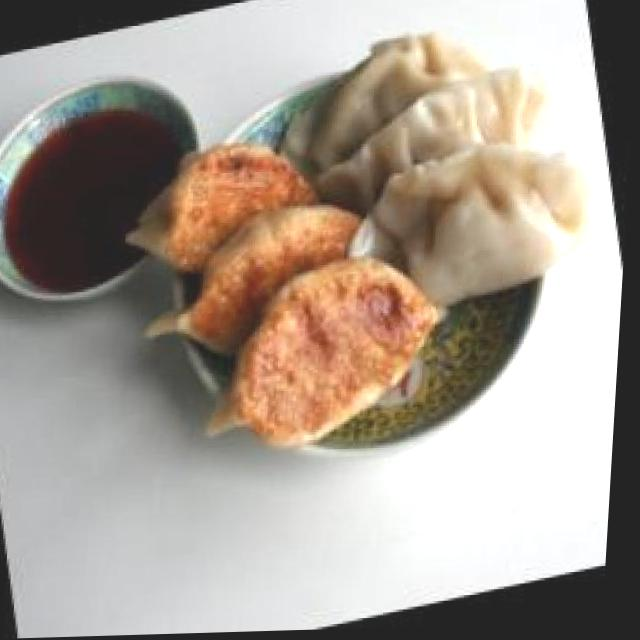fried_dumplings: (112, 0, 637, 483)
